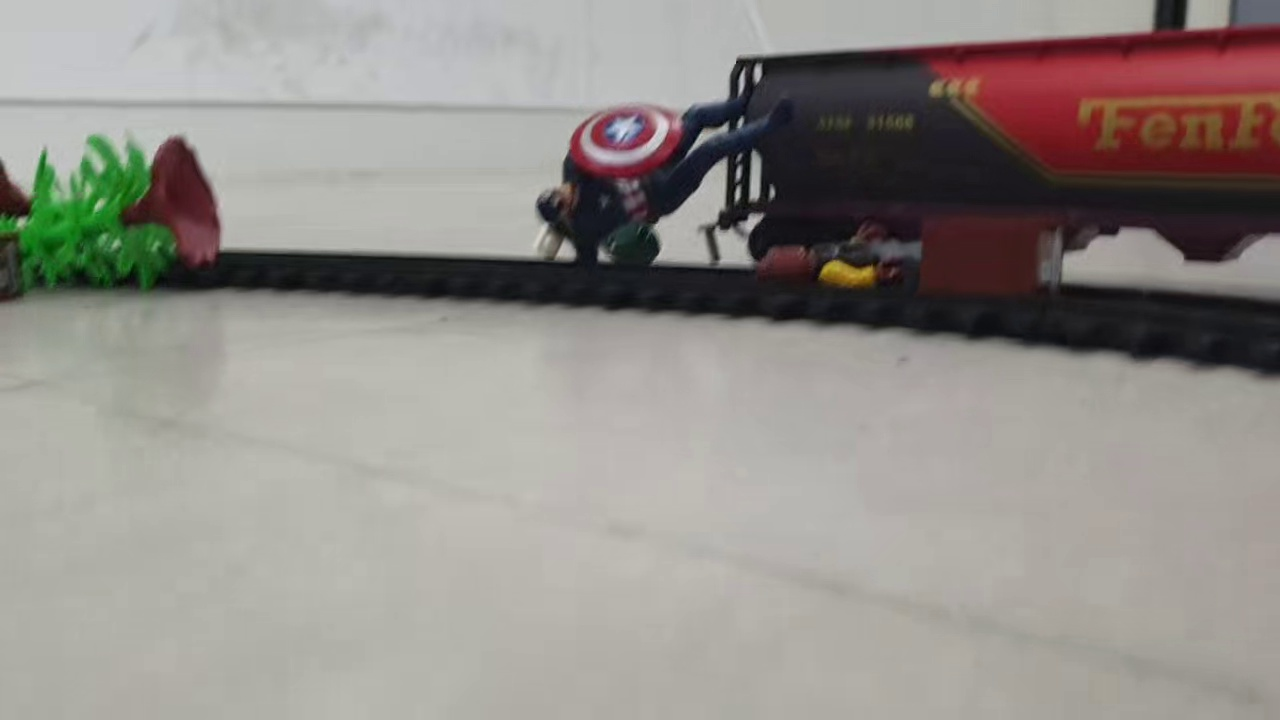box: (917, 212, 1066, 294), (1, 224, 27, 302)
people: (535, 76, 798, 231), (761, 219, 925, 299), (536, 216, 672, 278)
tree: (1, 135, 224, 283)
